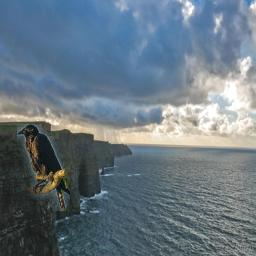Crow: (17, 124, 70, 211)
